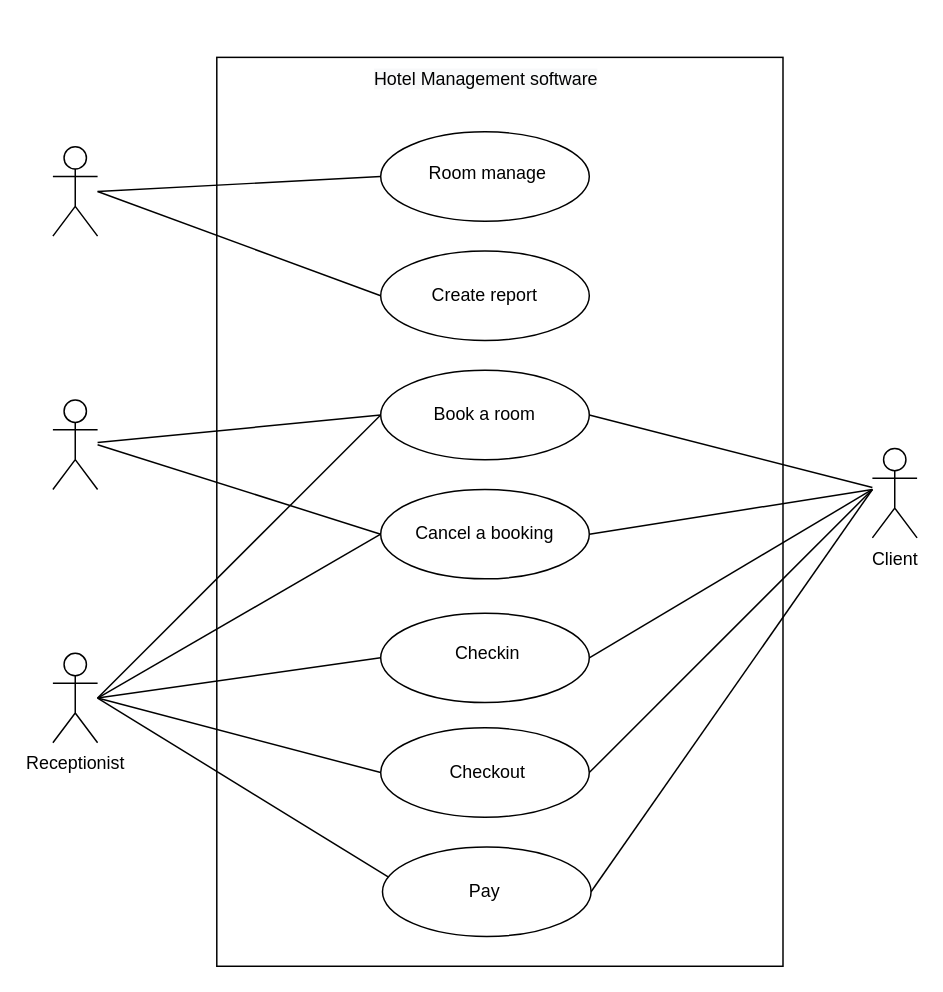
This 943x992 diagram has some shape labels left out. Here are the shapes that lost their labels. From the top down, the centre of each, then its label:
At [74,190]: "Manager".
At [74,444]: "Saller".
